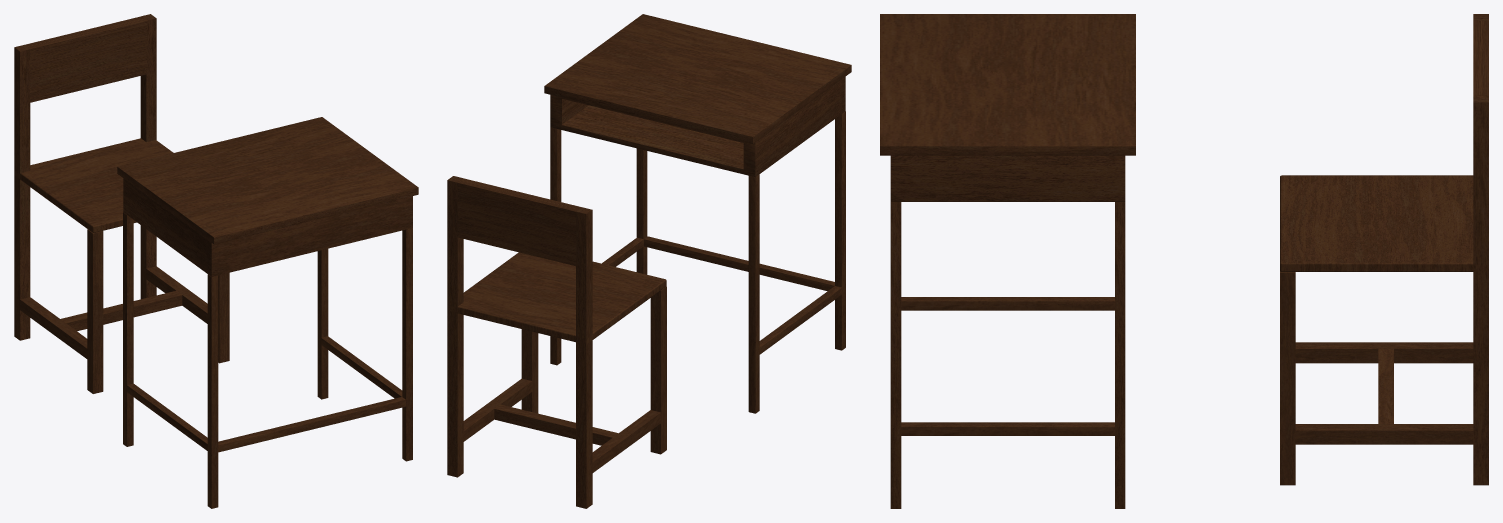
File: school desk.fbx
3 renders of one model, left to right at view 1: azimuth 30°, elevation 25°; view 2: azimuth 150°, elevation 25°; view 3: azimuth 270°, elevation 25°, orthographic. The views are drawn at different scales.
Visible parts, largest first — view 1: Cube.001, Cube, Cube.017, Cube.006, Cube.013, Cube.004, Cube.011, Cube.012, Cube.002, Cube.005, Cube.008, Cube.003 (+6 smaller); view 2: Cube.001, Cube.006, Cube, Cube.017, Cube.013, Cube.012, Cube.005, Cube.011, Cube.004, Cube.008, Cube.014, Cube.016 (+6 smaller); view 3: Cube.001, Cube.006, Cube, Cube.012, Cube.015, Cube.016, Cube.002, Cube.010, Cube.003, Cube.007, Cube.009, Cube.014 (+1 smaller).
Part boxes in pixels (box(x1,y1,x2,y2)): Cube.001: box(117, 117, 418, 244); Cube: box(123, 178, 412, 276); Cube.017: box(24, 16, 146, 102); Cube.006: box(14, 138, 173, 232); Cube.013: box(14, 45, 30, 340); Cube.004: box(207, 274, 218, 508); Cube.011: box(87, 229, 103, 393); Cube.012: box(140, 14, 156, 299); Cube.002: box(402, 228, 412, 461); Cube.005: box(123, 212, 133, 446); Cube.008: box(218, 397, 405, 452); Cube.003: box(317, 248, 328, 399); Cube.001: box(544, 14, 851, 143); Cube.006: box(448, 252, 666, 343); Cube: box(550, 76, 845, 177); Cube.017: box(457, 178, 581, 266); Cube.013: box(576, 207, 592, 508); Cube.012: box(447, 176, 463, 477); Cube.005: box(748, 174, 759, 413); Cube.011: box(650, 286, 666, 454); Cube.004: box(835, 111, 845, 350); Cube.008: box(644, 236, 834, 291); Cube.014: box(494, 404, 618, 445); Cube.016: box(592, 410, 660, 472); Cube.001: box(880, 14, 1135, 155); Cube.006: box(1280, 175, 1487, 271); Cube: box(890, 155, 1125, 201); Cube.012: box(1473, 95, 1488, 485); Cube.015: box(1295, 424, 1473, 444); Cube.016: box(1295, 342, 1473, 363); Cube.002: box(890, 202, 901, 508); Cube.010: box(1280, 271, 1295, 485); Cube.003: box(1115, 202, 1125, 508); Cube.007: box(901, 422, 1114, 435); Cube.009: box(901, 297, 1114, 310); Cube.014: box(1378, 348, 1393, 424).
Size of the model in its own units: 60.01 by 81.05 by 117.
Materials: 1 (1 with a texture image).
